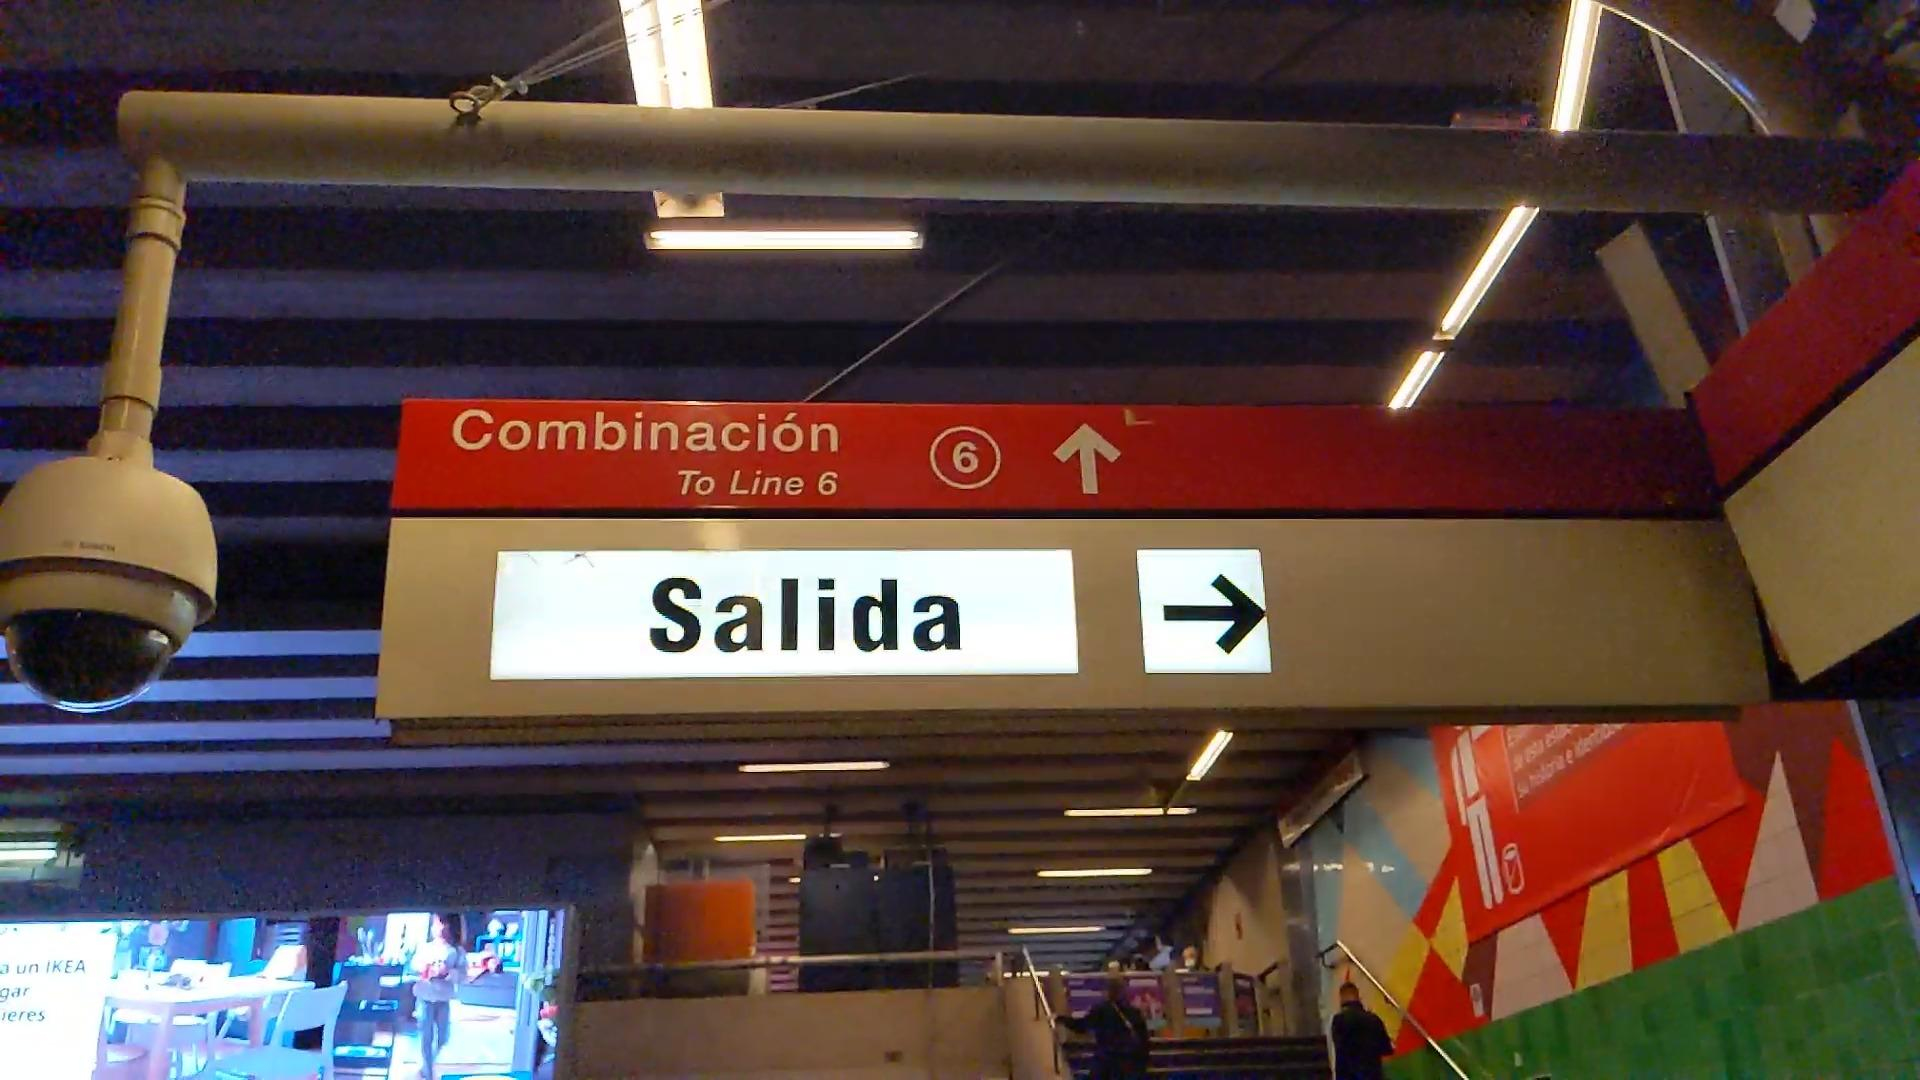right arrow: (1157, 568, 1267, 656)
up arrow: (1052, 419, 1124, 496)
